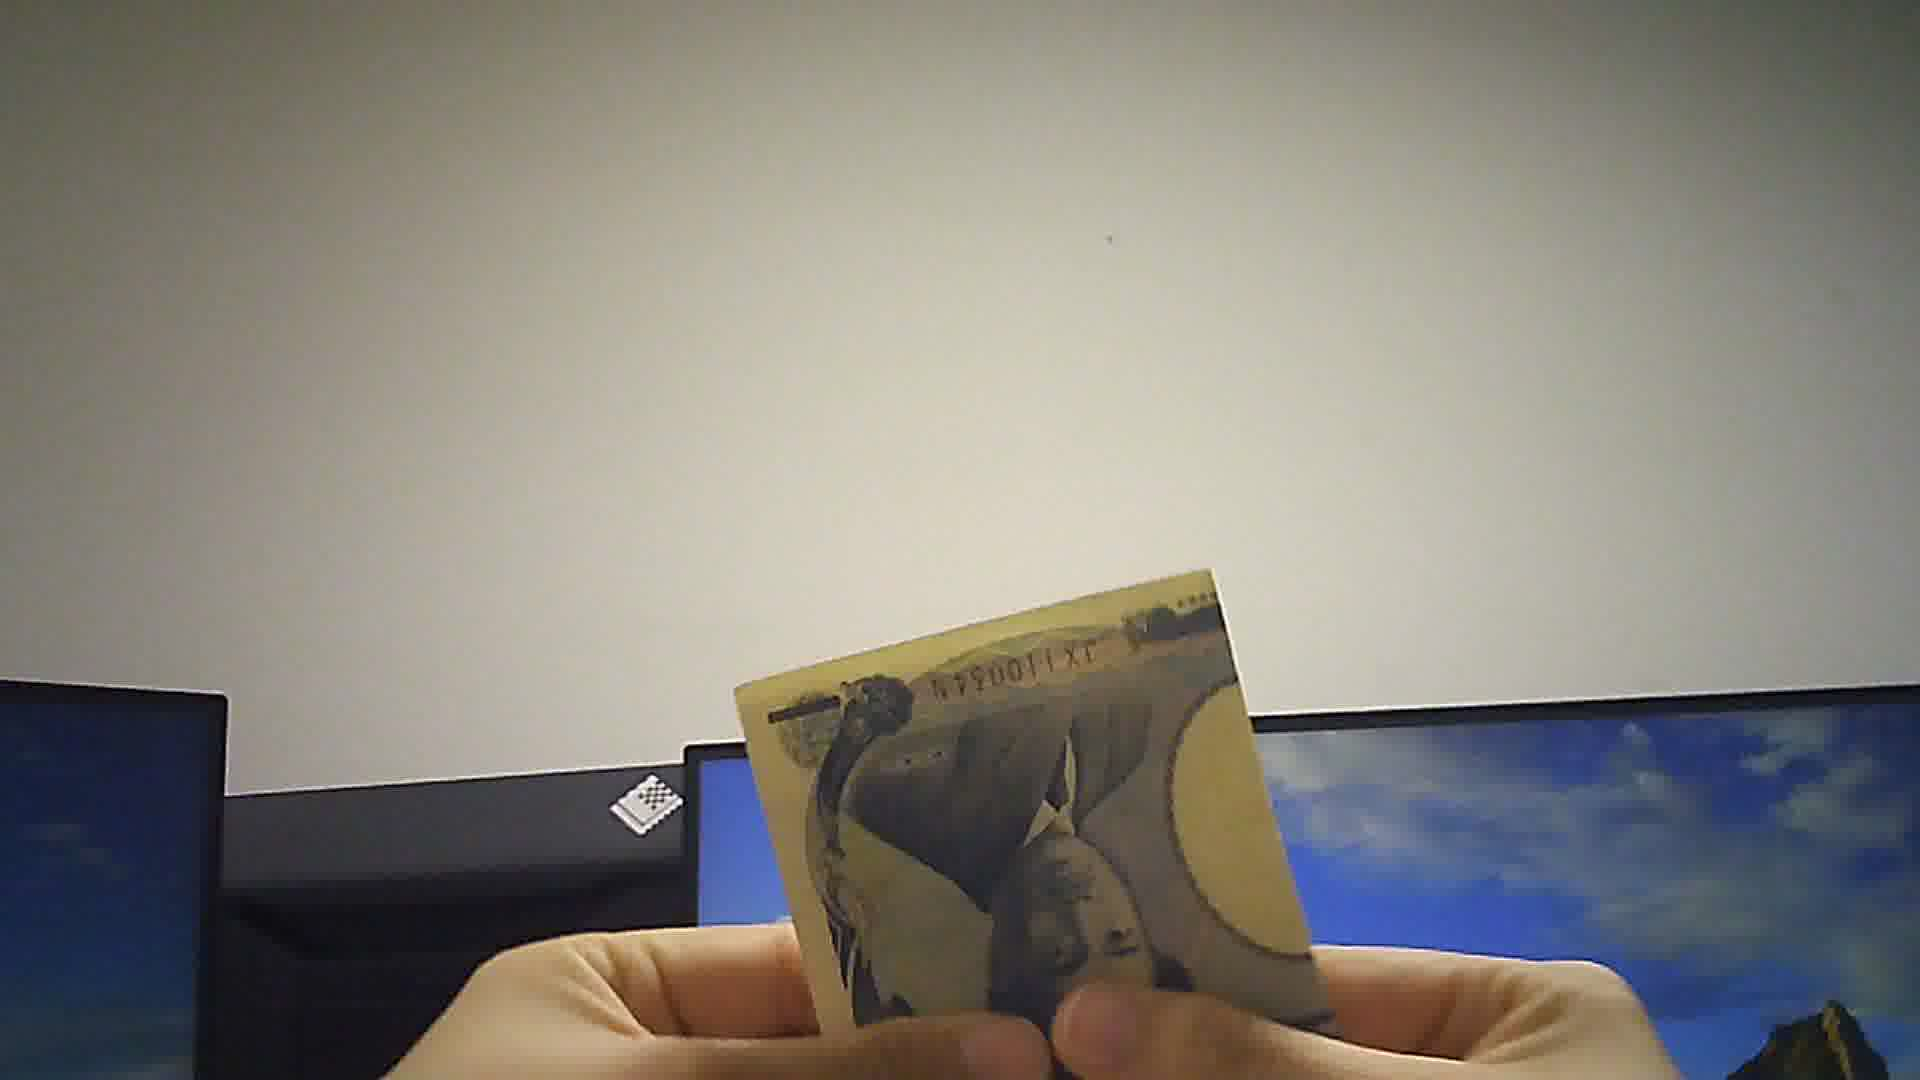1,000 Yen: (735, 563, 1341, 1079)
